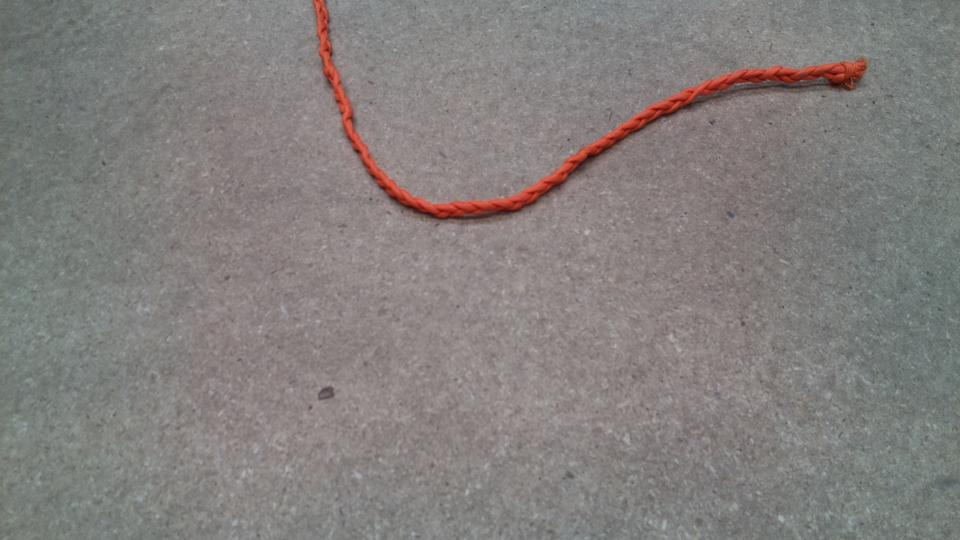rope: (309, 1, 873, 226)
